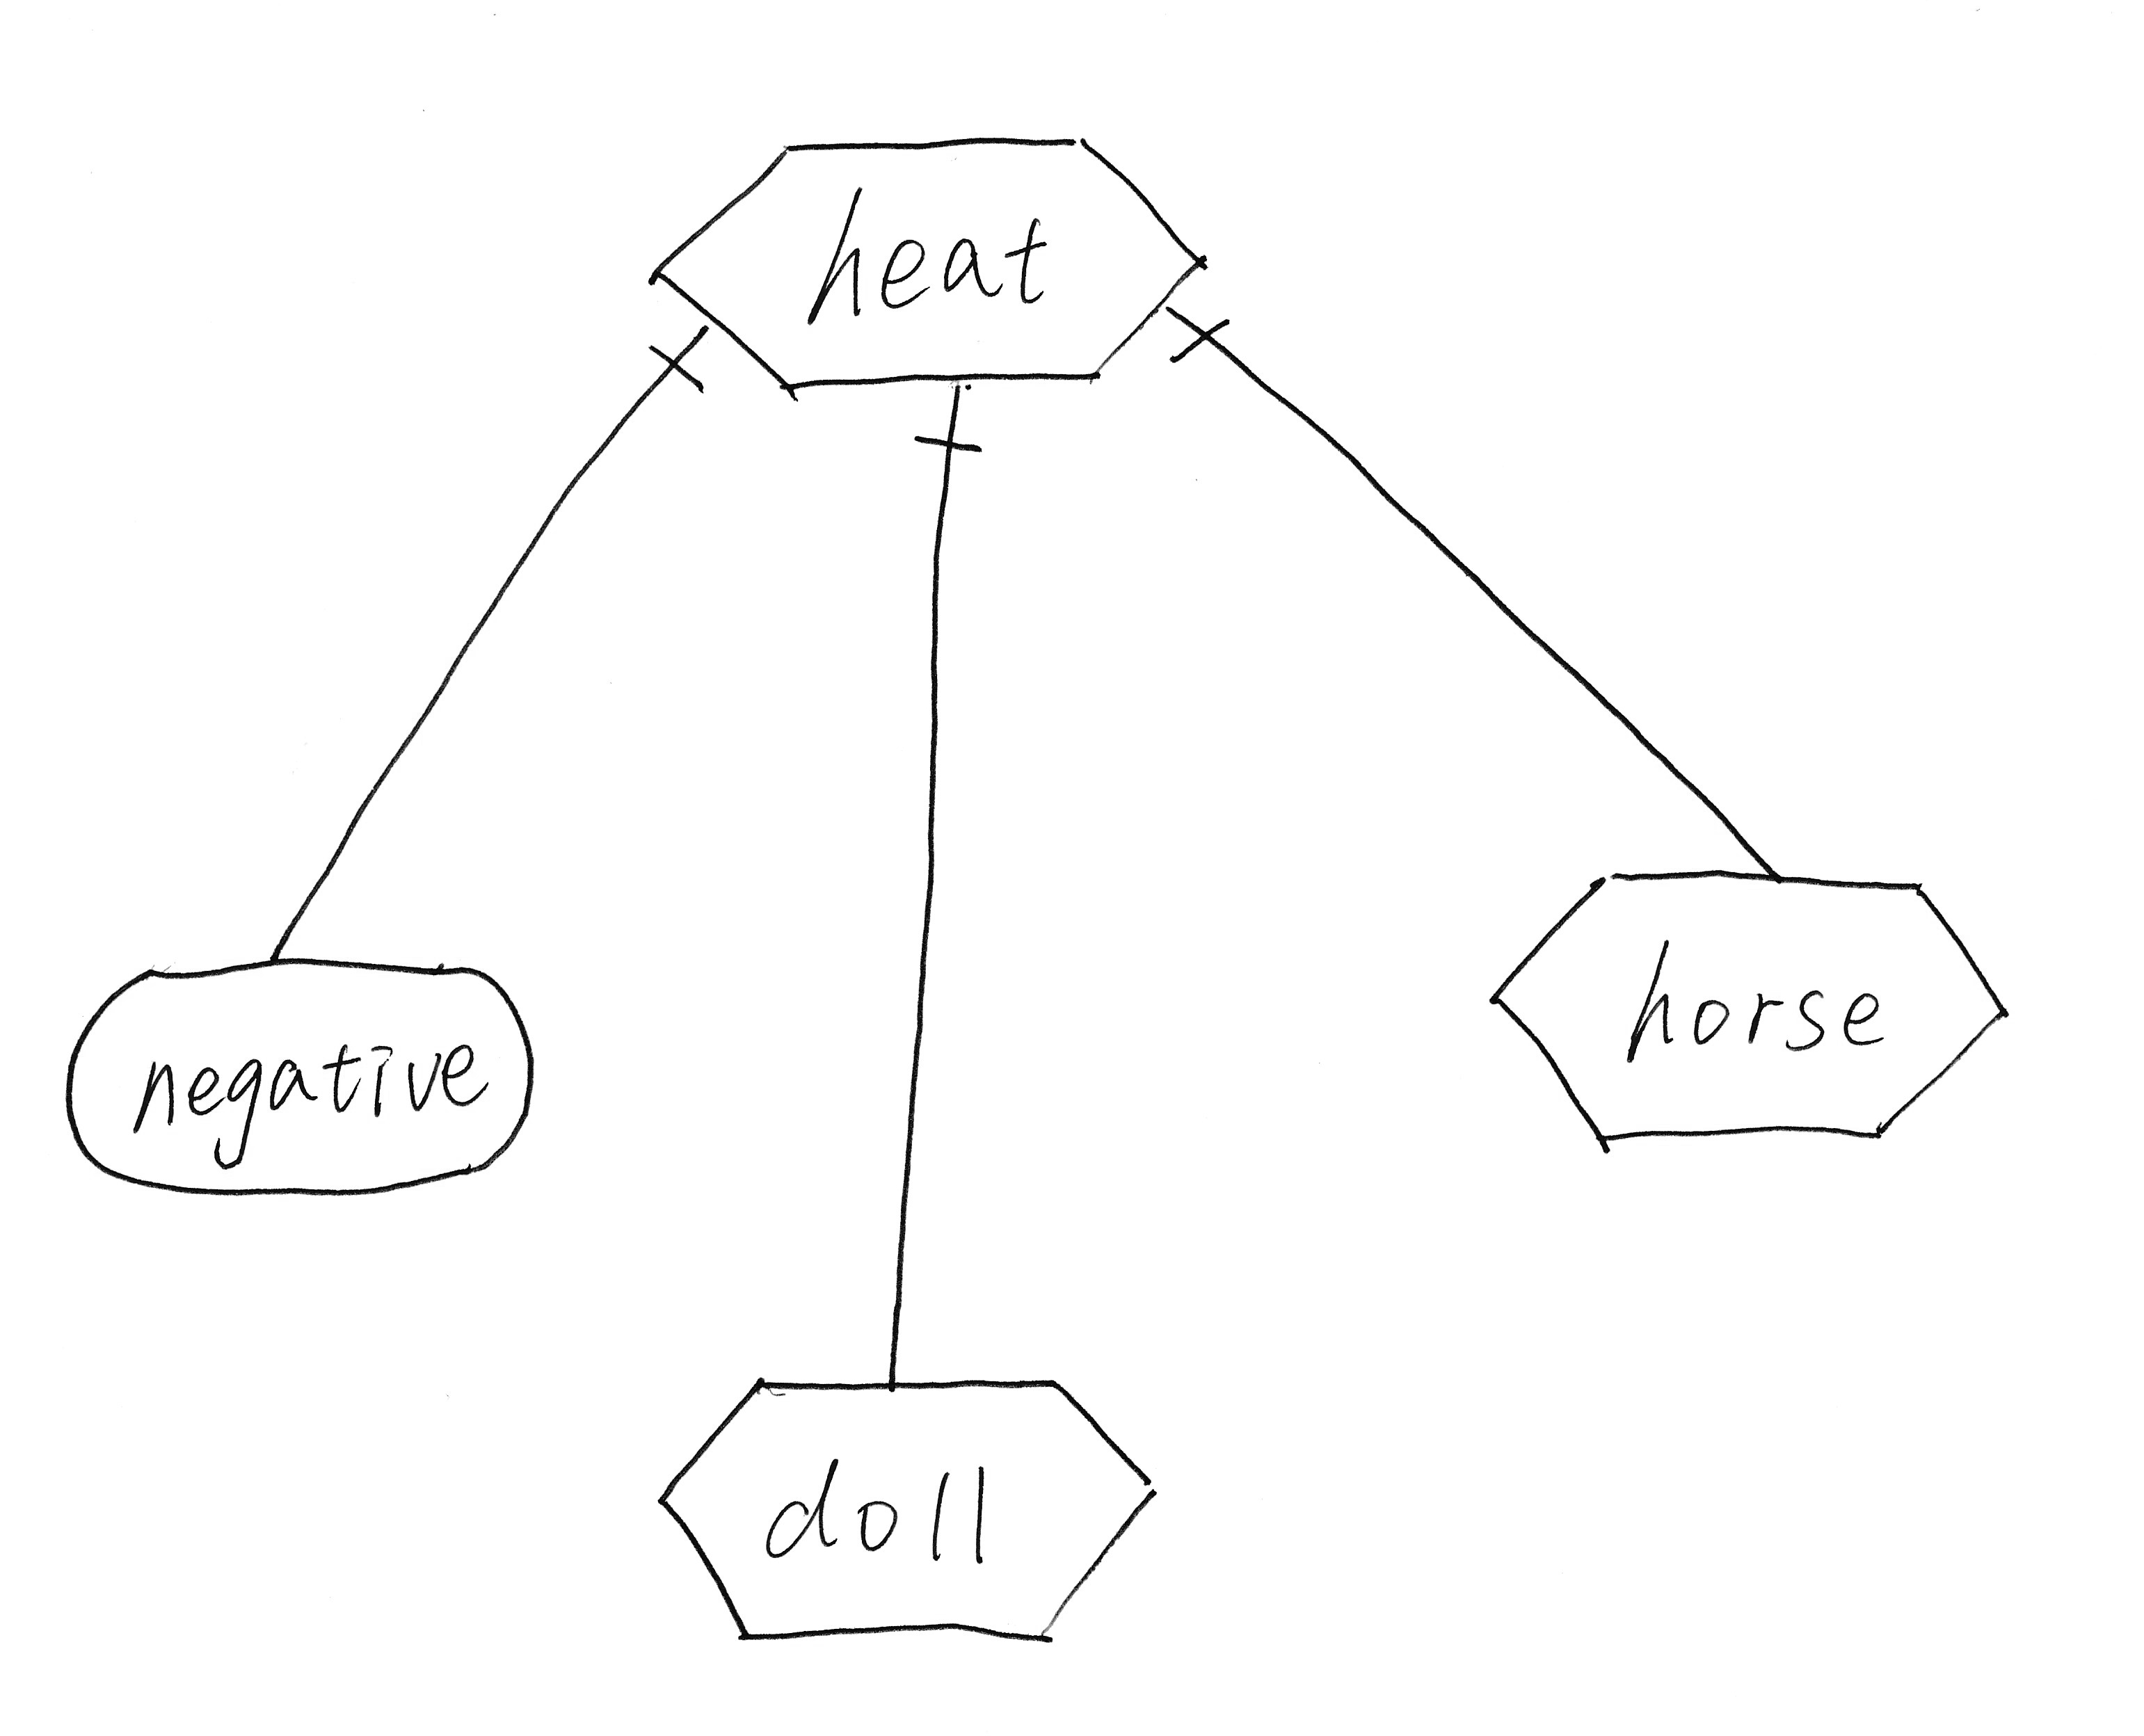and: (900, 368, 999, 475), (1150, 278, 1244, 379), (633, 317, 734, 406)
goal: (37, 930, 556, 1212)
task: (1471, 840, 2041, 1166), (625, 113, 1233, 418), (633, 1345, 1185, 1660)
